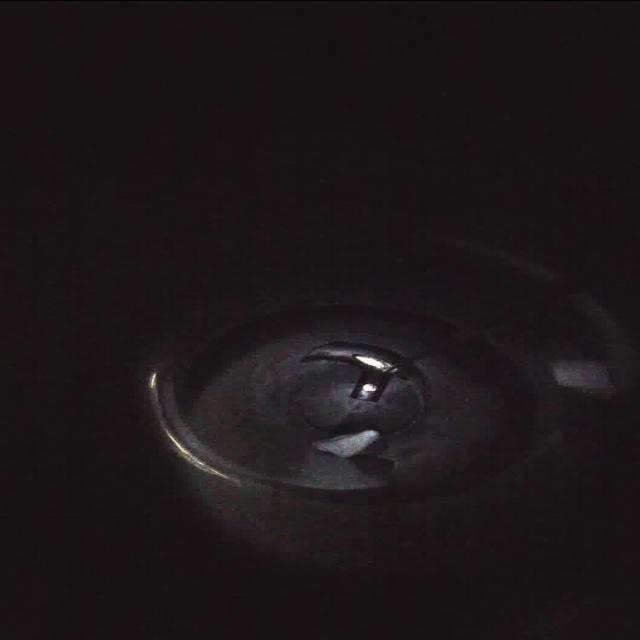impurity: (305, 424, 383, 462)
